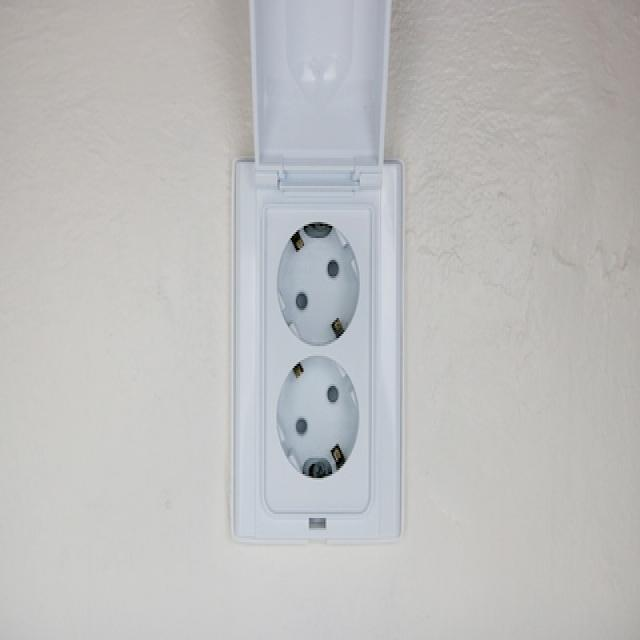typeb: (223, 144, 405, 572)
